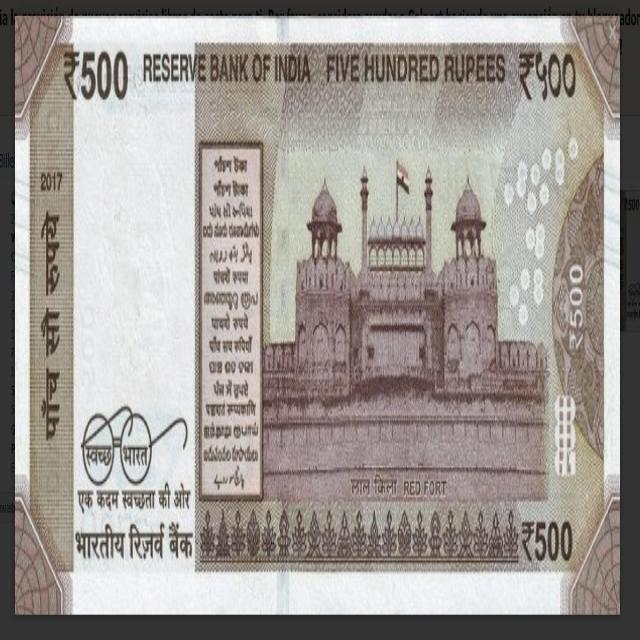500IndianRupees: (16, 17, 618, 616)
